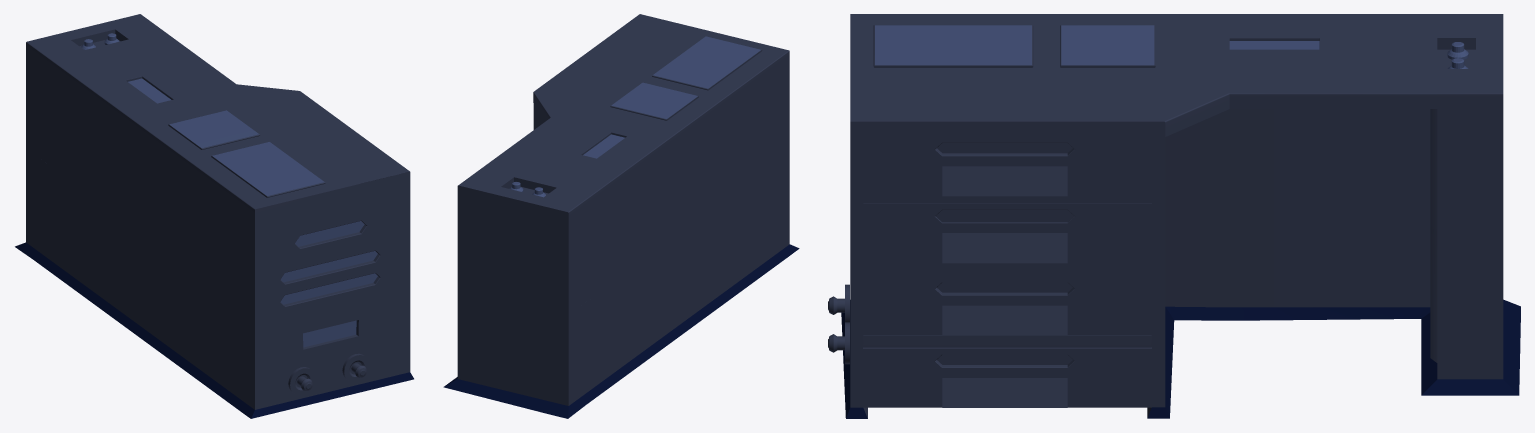
The model's file is desk colored.fbx.
3 renders of one model, left to right at view 1: azimuth 30°, elevation 25°; view 2: azimuth 150°, elevation 25°; view 3: azimuth 270°, elevation 25°, orthographic. The views are drawn at different scales.
Parts seen in each view (by area): view 1: desk_3:desk_base, desk_3:board1, desk_3:board2, desk_3:button2, desk_3:button1; view 2: desk_3:desk_base, desk_3:board1, desk_3:board2; view 3: desk_3:desk_base, desk_3:drawer6, desk_3:drawer5, desk_3:drawer3, desk_3:drawer4, desk_3:board1, desk_3:board2.
Part boxes in pixels (box(x1,y1,x2,y2)): desk_3:desk_base: box(15, 14, 413, 418); desk_3:board1: box(211, 141, 325, 197); desk_3:board2: box(168, 110, 260, 149); desk_3:button2: box(342, 353, 369, 382); desk_3:button1: box(288, 367, 315, 395); desk_3:desk_base: box(443, 14, 799, 418); desk_3:board1: box(652, 36, 762, 90); desk_3:board2: box(610, 82, 698, 120); desk_3:desk_base: box(841, 14, 1520, 418); desk_3:drawer6: box(863, 347, 1151, 407); desk_3:drawer5: box(863, 276, 1151, 335); desk_3:drawer3: box(863, 137, 1151, 196); desk_3:drawer4: box(863, 203, 1151, 263); desk_3:board1: box(873, 25, 1033, 67); desk_3:board2: box(1060, 25, 1155, 67).
Bounding box in the file's own units: 428 × 517 × 1084.
